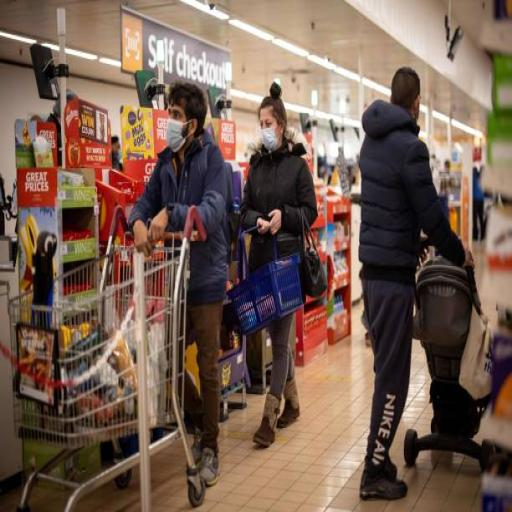shopping_cart: (5, 202, 208, 512)
